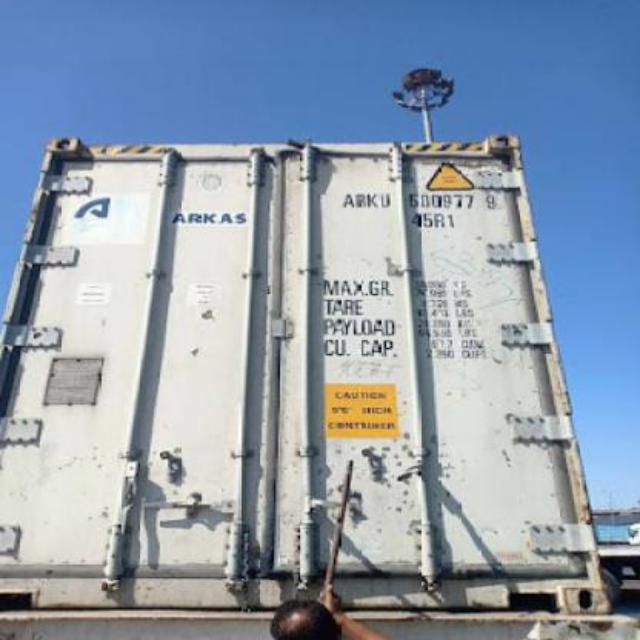0: (418, 194, 432, 210), (432, 194, 442, 210)
5: (406, 191, 419, 207)
7: (462, 192, 476, 212), (454, 194, 466, 208)
9: (482, 192, 496, 210), (442, 194, 454, 210)
A: (342, 194, 356, 208)
K: (368, 192, 378, 210)
R: (354, 194, 368, 206)
U: (378, 194, 392, 210)
